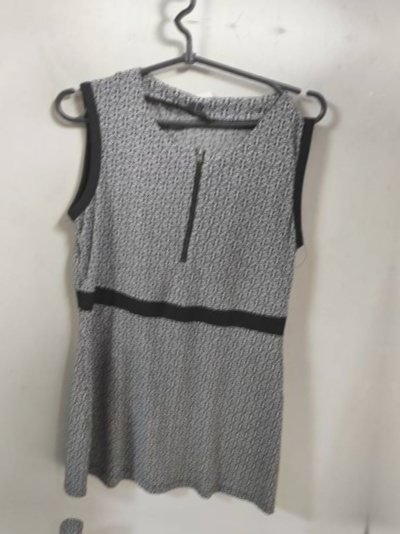Dress: (34, 48, 366, 527), (0, 510, 321, 534), (85, 0, 400, 2)
